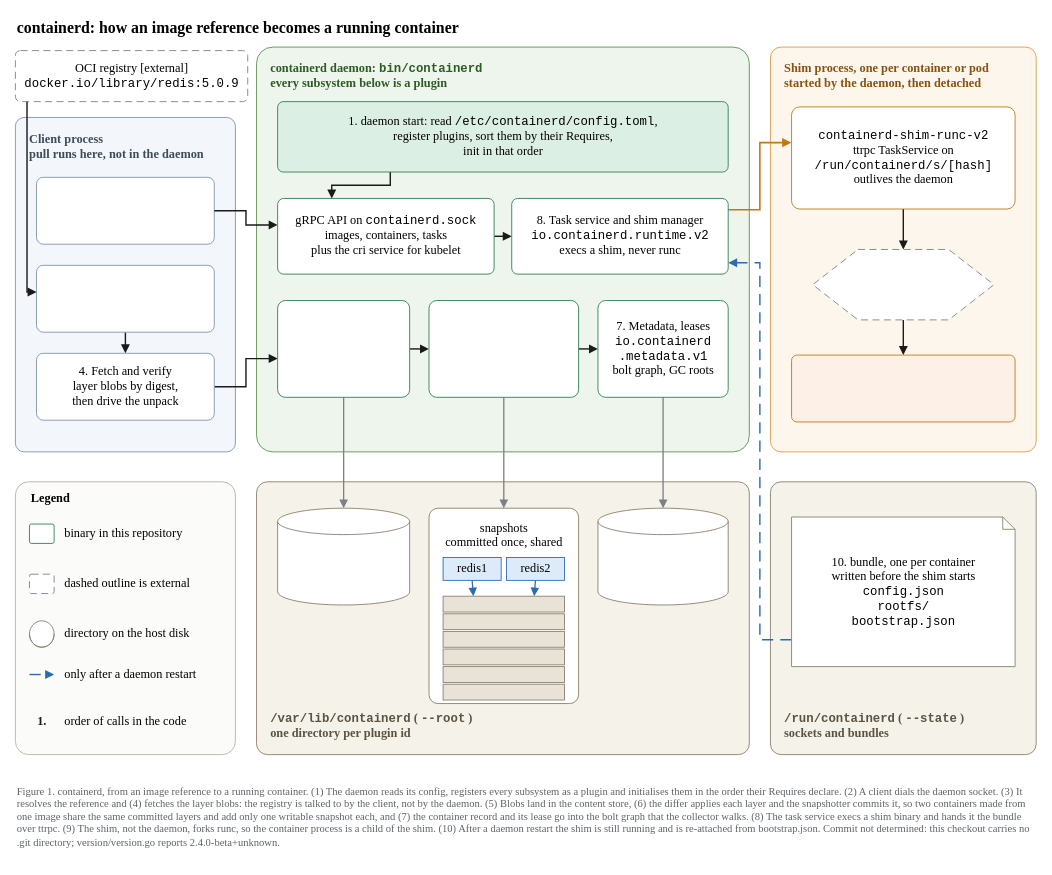
Some shapes in this 1052 by 875 pixel diagram are drawn without their labels. The shapes that lost their labels are listed below. From the top down, each one's centre as x and y in pixels, then its label:
the point at 125,210: 2. Go client bin/ctr , nerdctl, docker dials the daemon socket
the point at 125,298: 3. Resolve the reference name to a manifest or index, then to layer descriptors
the point at 903,284: 9. runc [external] creates and starts the container
the point at 343,348: 5. Content store io.containerd .content.v1 blobs by digest
the point at 503,348: 6. Snapshotter, differ io.containerd .snapshotter.v1 applies each layer
the point at 903,388: container process child of the shim, not of the daemon
the point at 343,556: content store blobs/sha256/
the point at 662,556: metadata db meta.db
